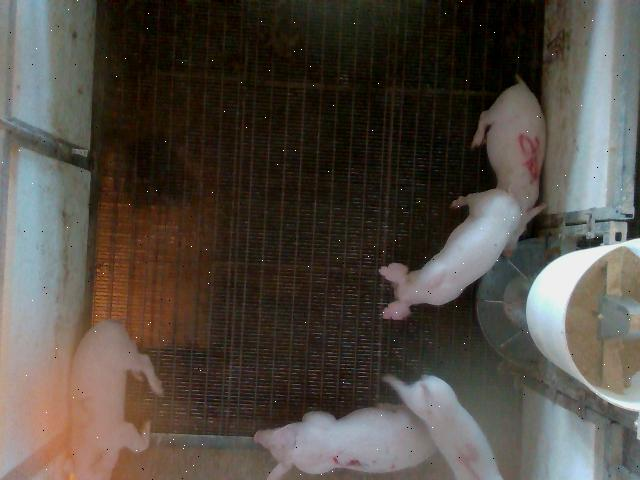pig-2: (69, 320, 162, 479)
pig-3: (255, 404, 435, 479)
pig-4: (385, 375, 502, 479)
pig-5: (472, 76, 546, 253)
